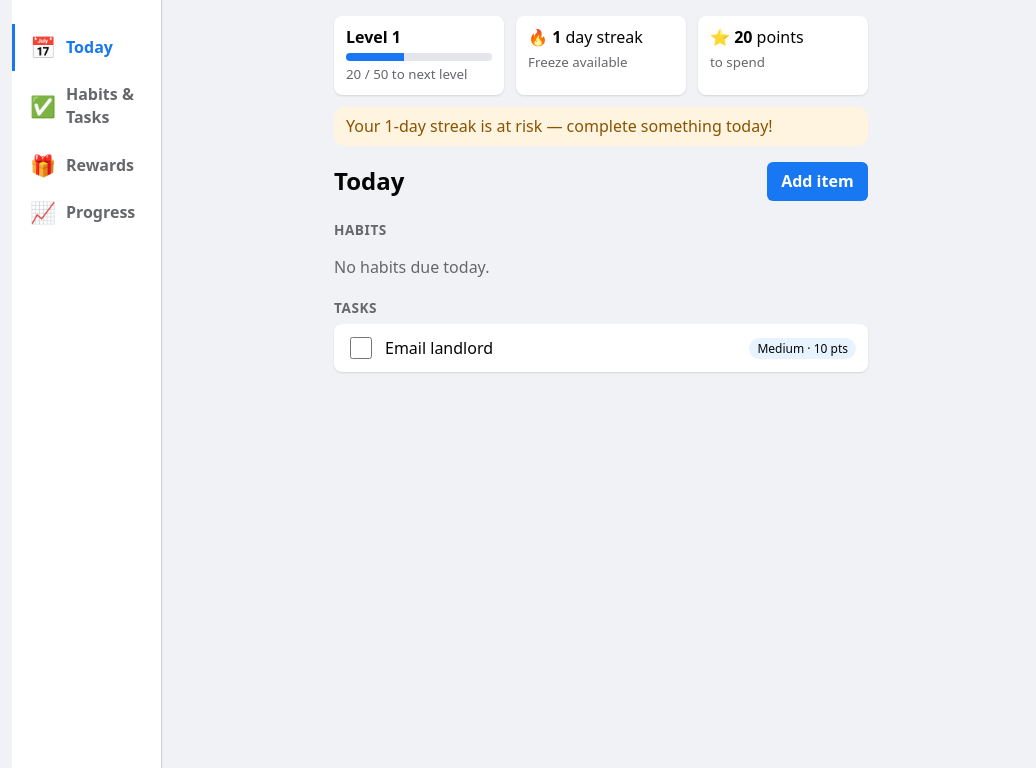
Scenario: Habits & Tasks screen › lists habits with their schedule, open tasks, and completed tasks separately
Step 1. Click the button "✅ Habits & Tasks" → (86, 106), box [12,71,161,142]
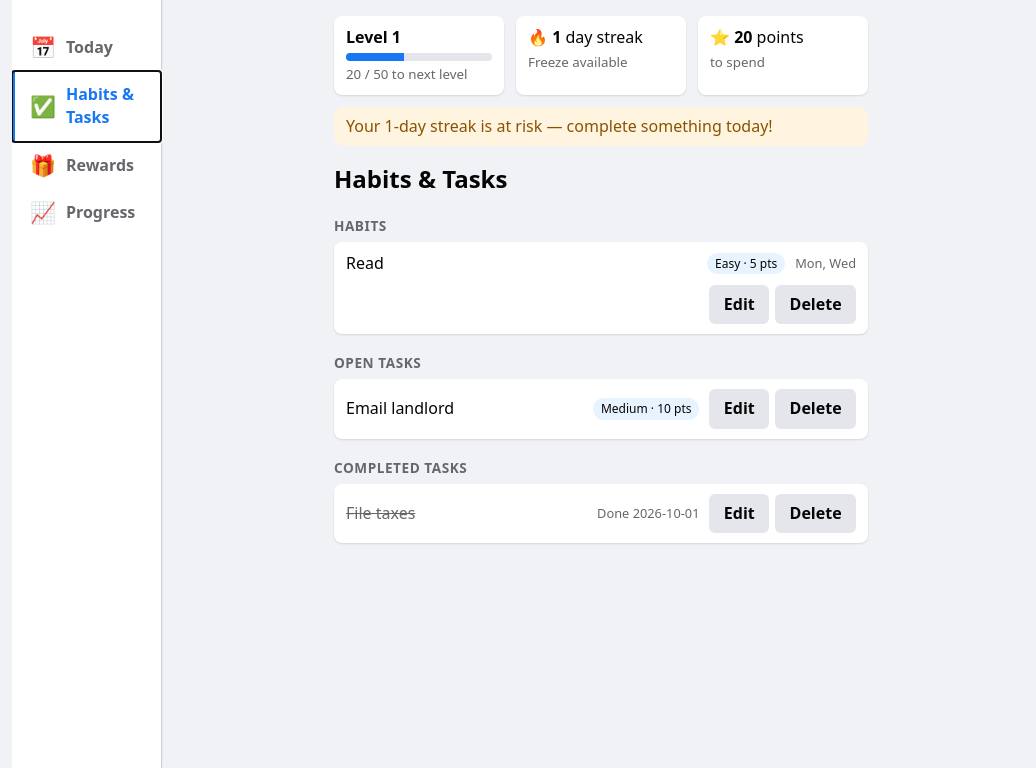
Now the text "Read" is shown, box [346,252,384,274]
Now the text "Mon, Wed" is shown, box [795,254,856,273]
Now the heading "Completed tasks" is shown, box [334,458,467,477]
